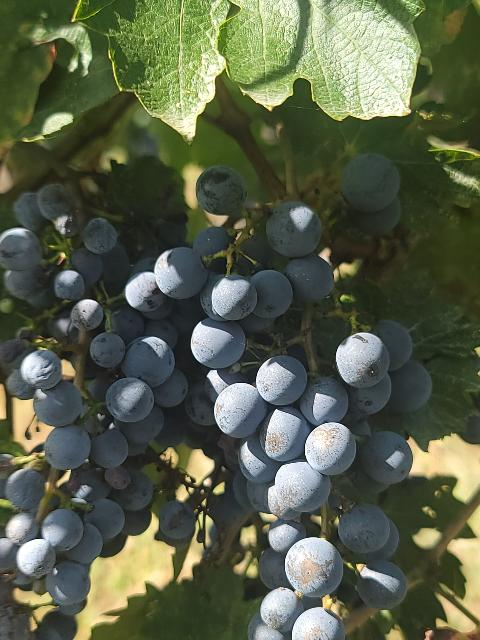grapes: (155, 201, 430, 640), (0, 184, 188, 640)
